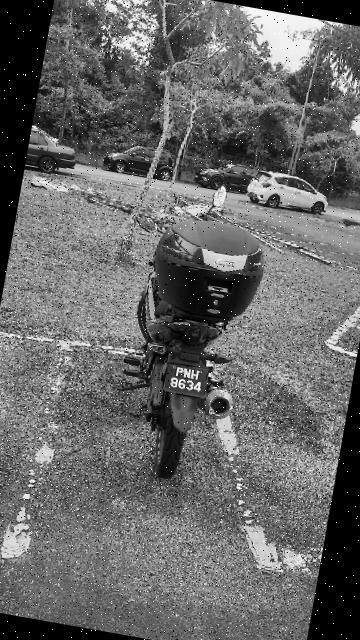License_Plate: (161, 358, 214, 402)
car: (243, 165, 334, 218), (103, 137, 179, 182), (193, 156, 267, 200), (27, 130, 85, 181)
motorcycle: (94, 180, 273, 490)
